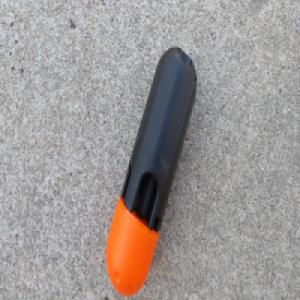PlasticPart: (105, 45, 198, 297)
